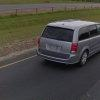Car: (31, 15, 100, 65)
